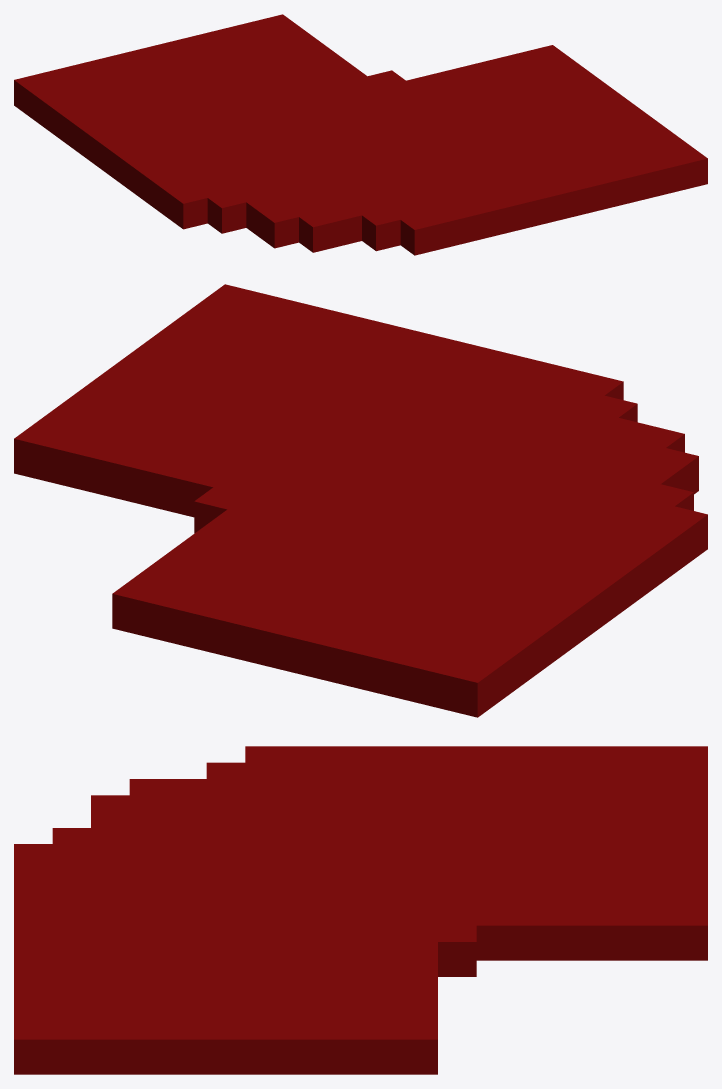
The model's file is straßeKurve_kein_platz.obj.
3 views of the same model, one above another, from view 1: azimuth 30°, elevation 25°; view 2: azimuth 150°, elevation 25°; view 3: azimuth 270°, elevation 25° (orthographic). The views are drawn at different scales.
Size of the model in its own units: 1.8 by 0.1 by 1.8.
Materials: 1 (1 with a texture image).
